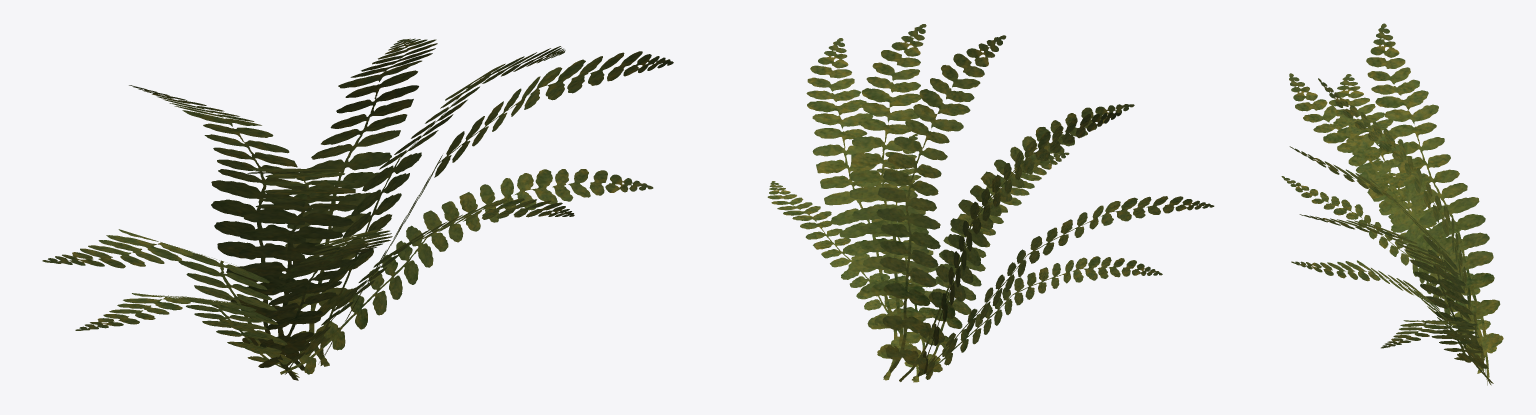
File: SM_Lounge_Foliage_03.fbx
The picture shows the model from 3 angles, left to right: view 1: azimuth 30°, elevation 25°; view 2: azimuth 150°, elevation 25°; view 3: azimuth 270°, elevation 25°; orthographic projection. The views are drawn at different scales.
Parts seen in each view (by area): view 1: SM_Lounge_Foliage_03; view 2: SM_Lounge_Foliage_03; view 3: SM_Lounge_Foliage_03.
Boxes of the visible parts, x1,y1,x2,y2 form: SM_Lounge_Foliage_03: [42, 38, 673, 380]; SM_Lounge_Foliage_03: [767, 24, 1214, 382]; SM_Lounge_Foliage_03: [1281, 23, 1503, 385].
Bounding box in the file's own units: 101 × 63.2 × 52.38.
Materials: 1 (1 with a texture image).
